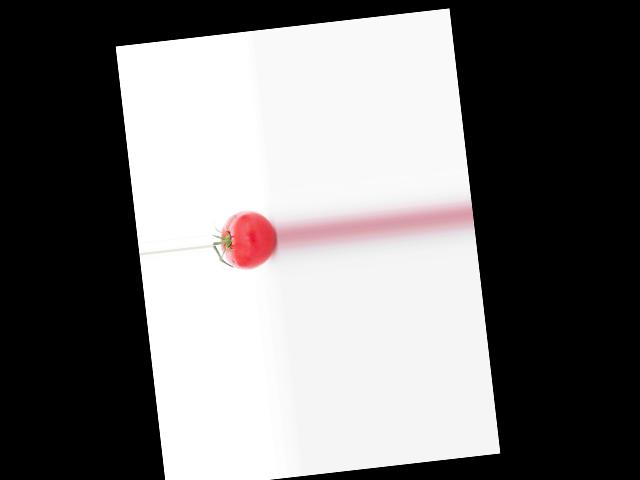tomato: (217, 206, 279, 271)
